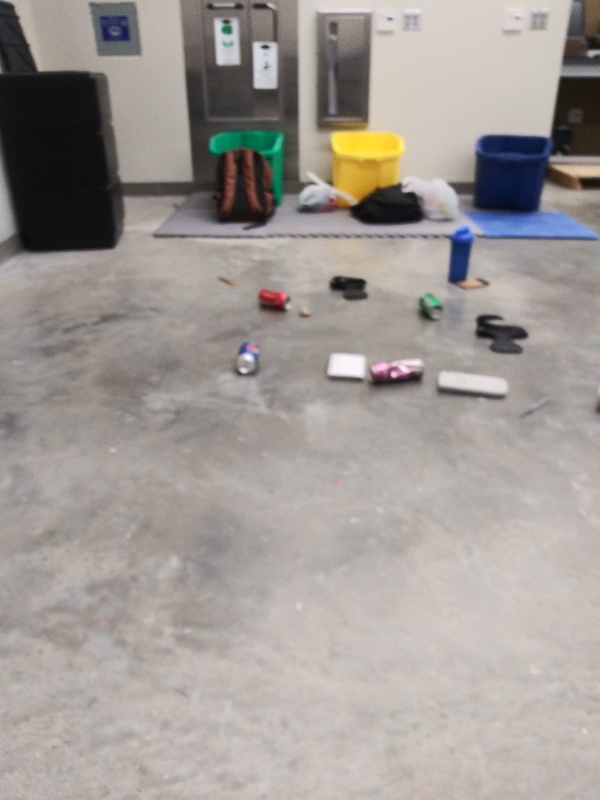can: (366, 353, 429, 387), (232, 340, 269, 377), (254, 285, 293, 314), (417, 289, 446, 322)
